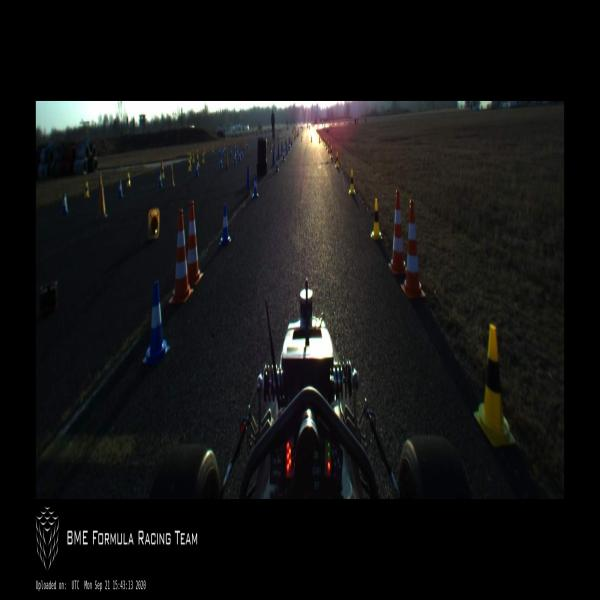blue_cone: (142, 280, 170, 366), (220, 203, 232, 247), (252, 173, 259, 199), (62, 193, 68, 214), (118, 179, 124, 199), (158, 170, 162, 188), (274, 156, 278, 172), (219, 155, 223, 170), (195, 163, 199, 177), (282, 149, 285, 162), (239, 150, 241, 162), (234, 153, 236, 164), (241, 149, 243, 159), (286, 144, 288, 154), (288, 141, 290, 151)
large_orange_cone: (400, 199, 426, 299), (168, 208, 194, 304), (388, 189, 407, 274), (187, 201, 204, 286)
unknown_cone: (96, 185, 108, 220), (147, 208, 160, 238), (245, 165, 251, 196), (169, 163, 175, 188), (225, 150, 229, 169), (272, 148, 275, 166), (99, 172, 102, 190), (277, 144, 280, 160), (280, 142, 283, 156), (285, 138, 287, 151)
yellow_cone: (473, 324, 516, 448), (370, 198, 383, 240), (348, 168, 355, 194), (84, 182, 90, 198), (126, 172, 132, 188), (335, 151, 339, 168), (161, 166, 165, 179), (330, 144, 333, 159), (188, 159, 191, 171), (327, 140, 330, 151), (197, 156, 200, 166), (192, 153, 195, 163), (325, 138, 327, 150), (322, 136, 324, 146), (202, 154, 204, 163), (318, 136, 320, 144), (324, 136, 325, 147)
